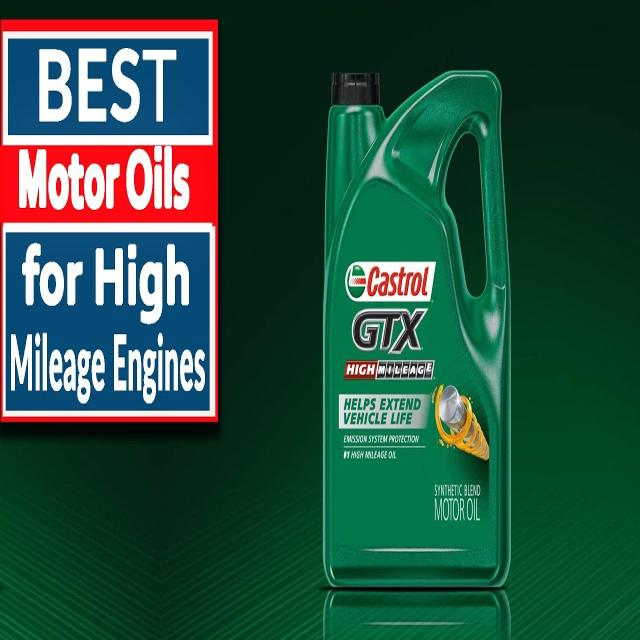motor_oil: (320, 69, 516, 594)
